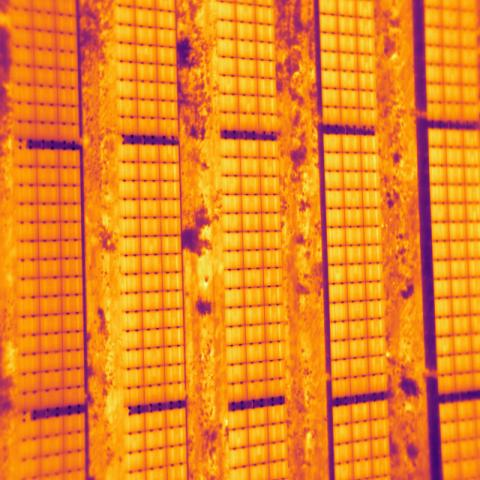fault: (327, 263, 348, 284), (141, 236, 163, 256), (436, 336, 455, 356)
